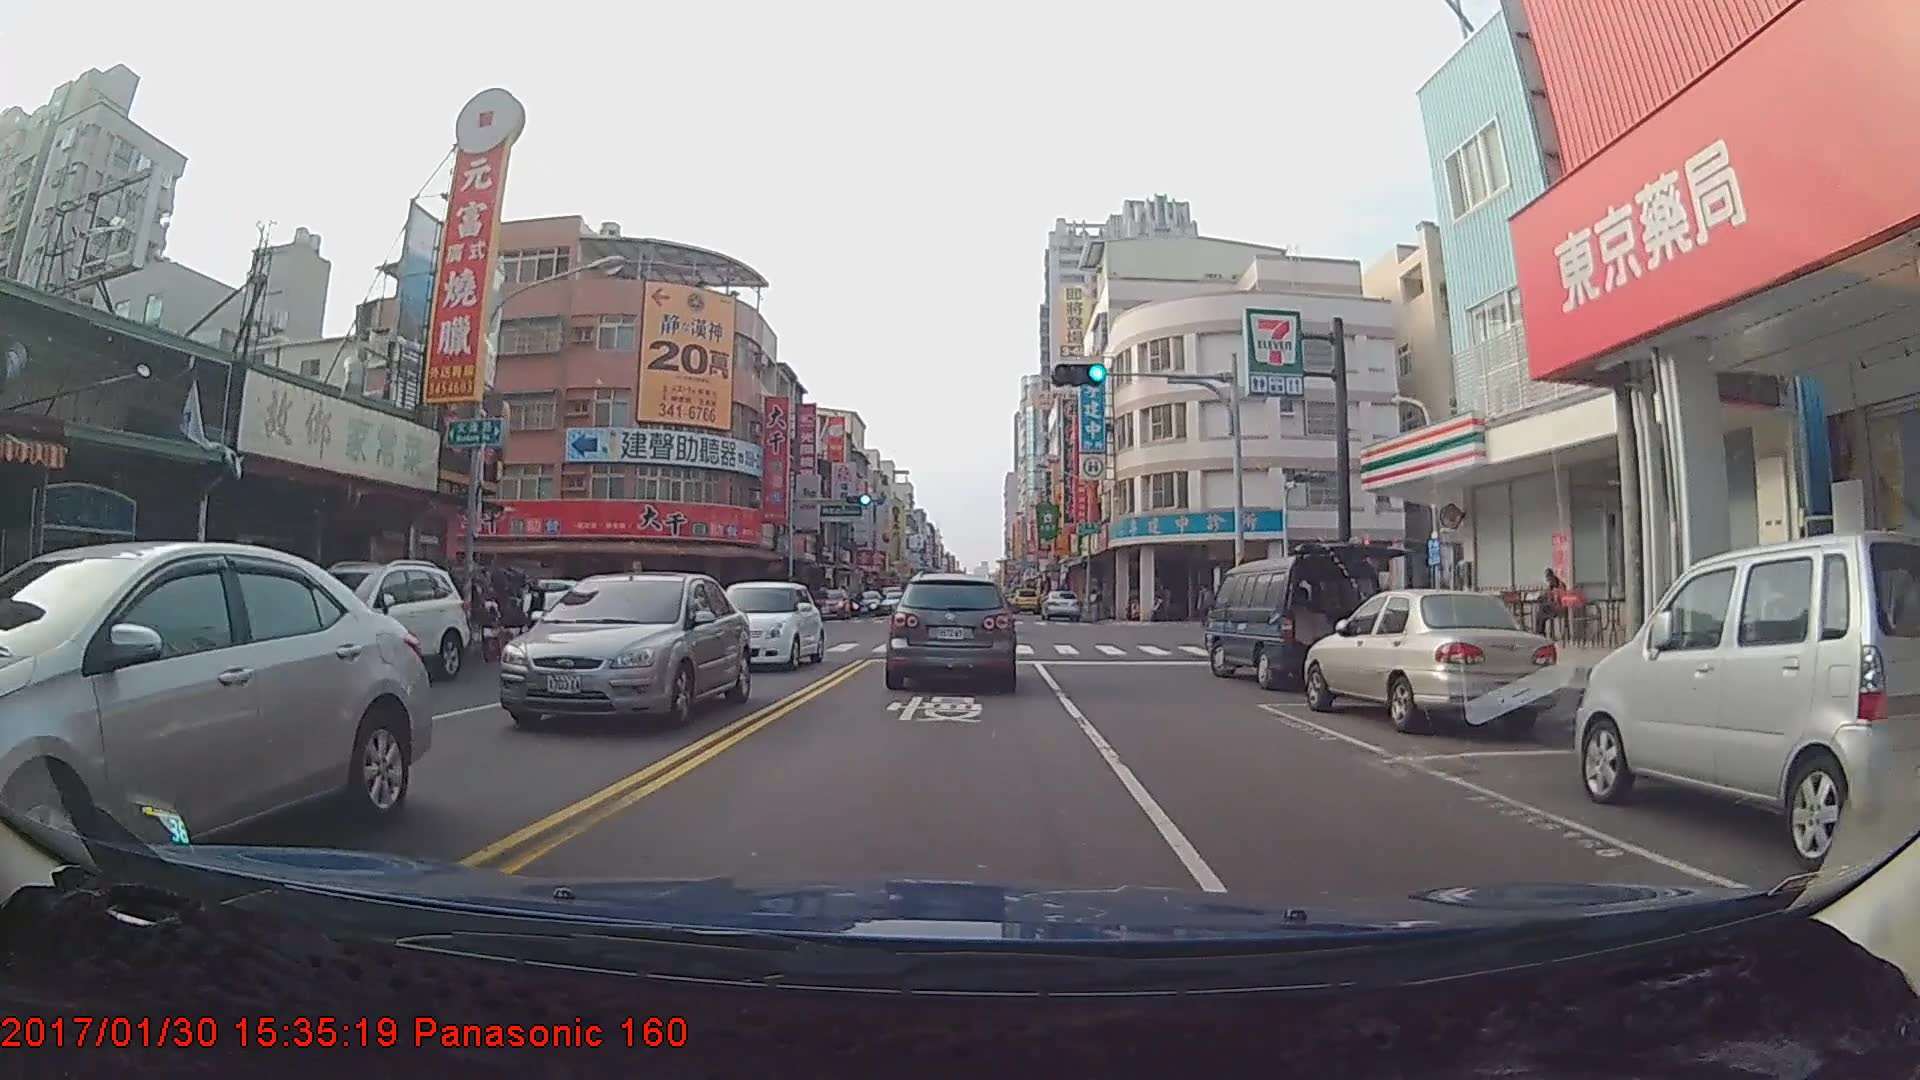pedestrian: (1198, 584, 1218, 631)
vehicle: (0, 540, 430, 911), (1575, 534, 1920, 854), (502, 569, 751, 727), (1305, 585, 1551, 731), (271, 554, 470, 690), (1205, 559, 1380, 683), (887, 570, 1017, 693), (712, 580, 825, 670), (1040, 588, 1082, 623), (810, 585, 848, 620), (849, 592, 884, 616), (1010, 588, 1038, 612)
